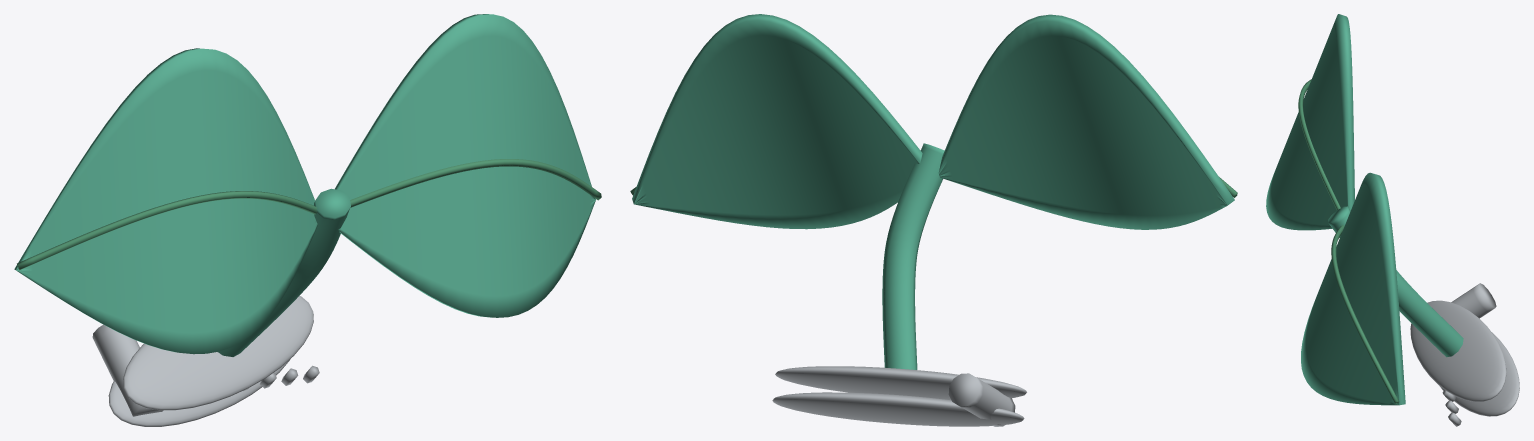
File: Masculine-middle-part-headband251-sprout.glb
3 renders of one model, left to right at view 1: azimuth 30°, elevation 25°; view 2: azimuth 150°, elevation 25°; view 3: azimuth 270°, elevation 25°, orthographic. The views are drawn at different scales.
Visible parts, largest first — view 1: 226 extra / Accessory / mint226, 226 extra / Sprout / clip silver235, 226 extra / Sprout / leaf vein235; view 2: 226 extra / Accessory / mint226, 226 extra / Sprout / clip silver235; view 3: 226 extra / Accessory / mint226, 226 extra / Sprout / clip silver235, 226 extra / Sprout / leaf vein235.
Boxes of the visible parts, x1=… form: 226 extra / Accessory / mint226: x1=14, y1=14, x2=595, y2=356; 226 extra / Sprout / clip silver235: x1=92, y1=296, x2=319, y2=426; 226 extra / Sprout / leaf vein235: x1=17, y1=159, x2=601, y2=270; 226 extra / Accessory / mint226: x1=632, y1=14, x2=1234, y2=369; 226 extra / Sprout / clip silver235: x1=772, y1=366, x2=1026, y2=426; 226 extra / Accessory / mint226: x1=1266, y1=14, x2=1463, y2=405; 226 extra / Sprout / clip silver235: x1=1410, y1=283, x2=1519, y2=426; 226 extra / Sprout / leaf vein235: x1=1298, y1=79, x2=1399, y2=403.
Size of the model in its own units: 0.2652 by 0.1742 by 0.12.
